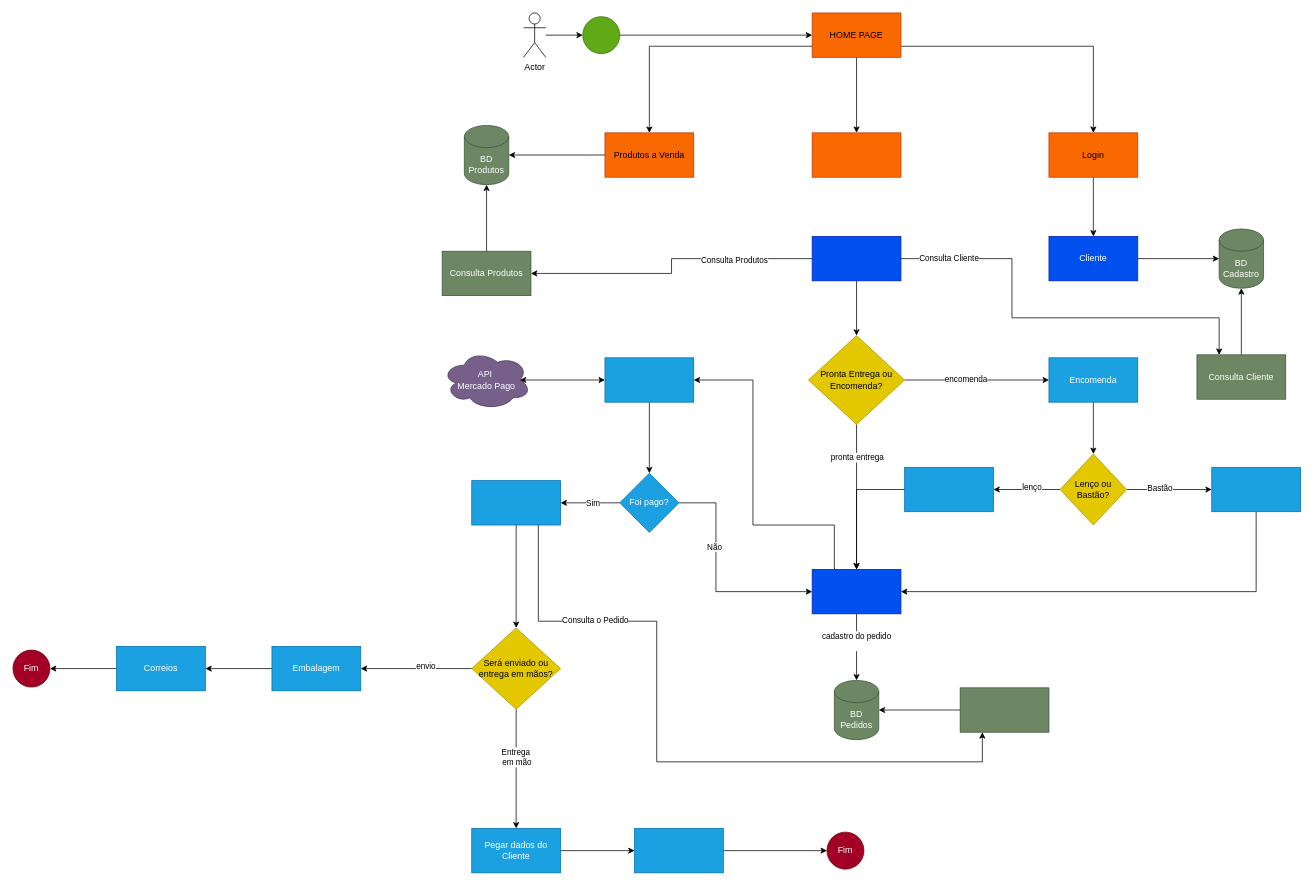
This 1314x886 diagram has some shape labels left out. Each missing label, with the centre of its shape:
Bastão 5 dias Uteis: [1256,489]
Combinar entrega com cliente: [678,850]
Compras: [856,258]
Consulta Pedidos: [1004,709]
Inicio: [601,35]
Lenço: 10 Dias Uteis: [948,489]
Pagamento: [649,379]
Pedido: [856,591]
Quem somos: [856,154]
Separação: [516,502]
